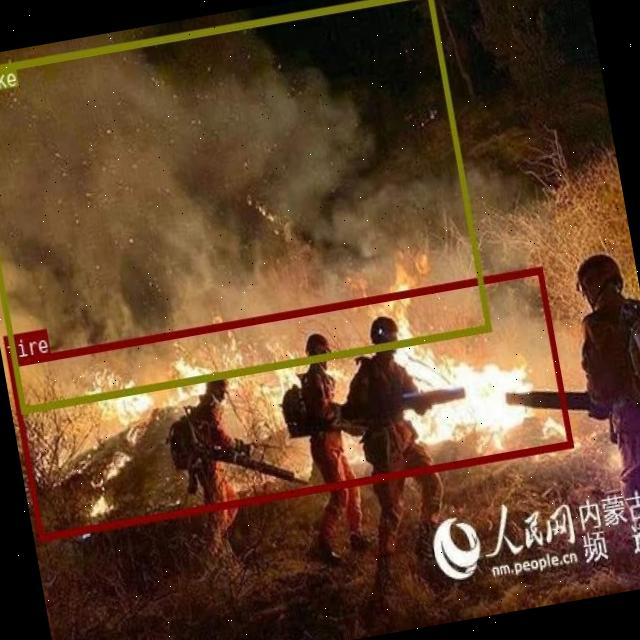fire: (6, 266, 572, 540)
smoke: (0, 0, 490, 412)
